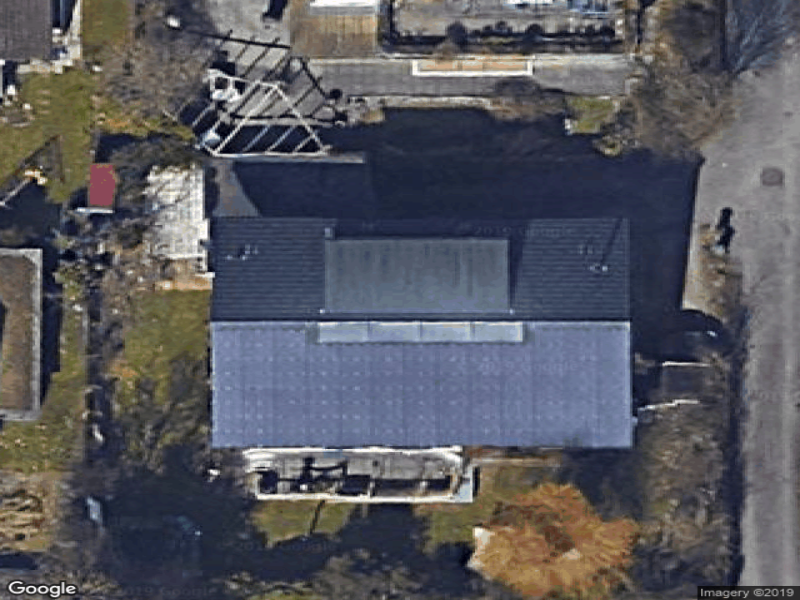pv: (211, 325, 632, 452)
